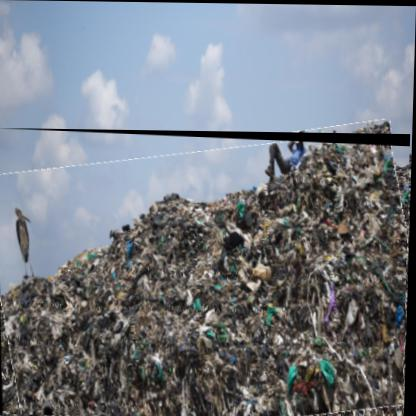Garbage: (1, 129, 414, 416)
